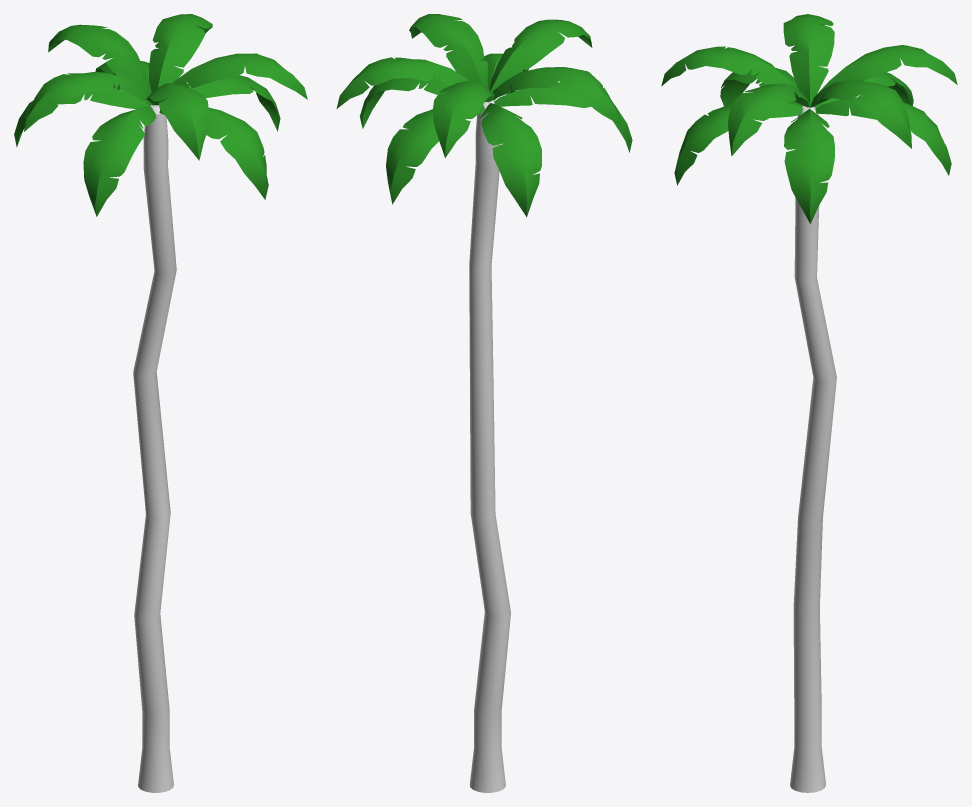
The model's file is palma.fbx.
3 renders of one model, left to right at view 1: azimuth 30°, elevation 25°; view 2: azimuth 150°, elevation 25°; view 3: azimuth 270°, elevation 25°, orthographic.
Visible parts, largest first — view 1: Plane.004, Circle; view 2: Plane.004, Circle; view 3: Plane.004, Circle.
Boxes of the visible parts, bbox=[...] form: Plane.004: bbox=[14, 14, 307, 216]; Circle: bbox=[133, 105, 176, 792]; Plane.004: bbox=[336, 14, 632, 217]; Circle: bbox=[469, 100, 510, 792]; Plane.004: bbox=[661, 14, 957, 223]; Circle: bbox=[790, 106, 836, 792].
Bounding box in the file's own units: 675 × 1816 × 673.
